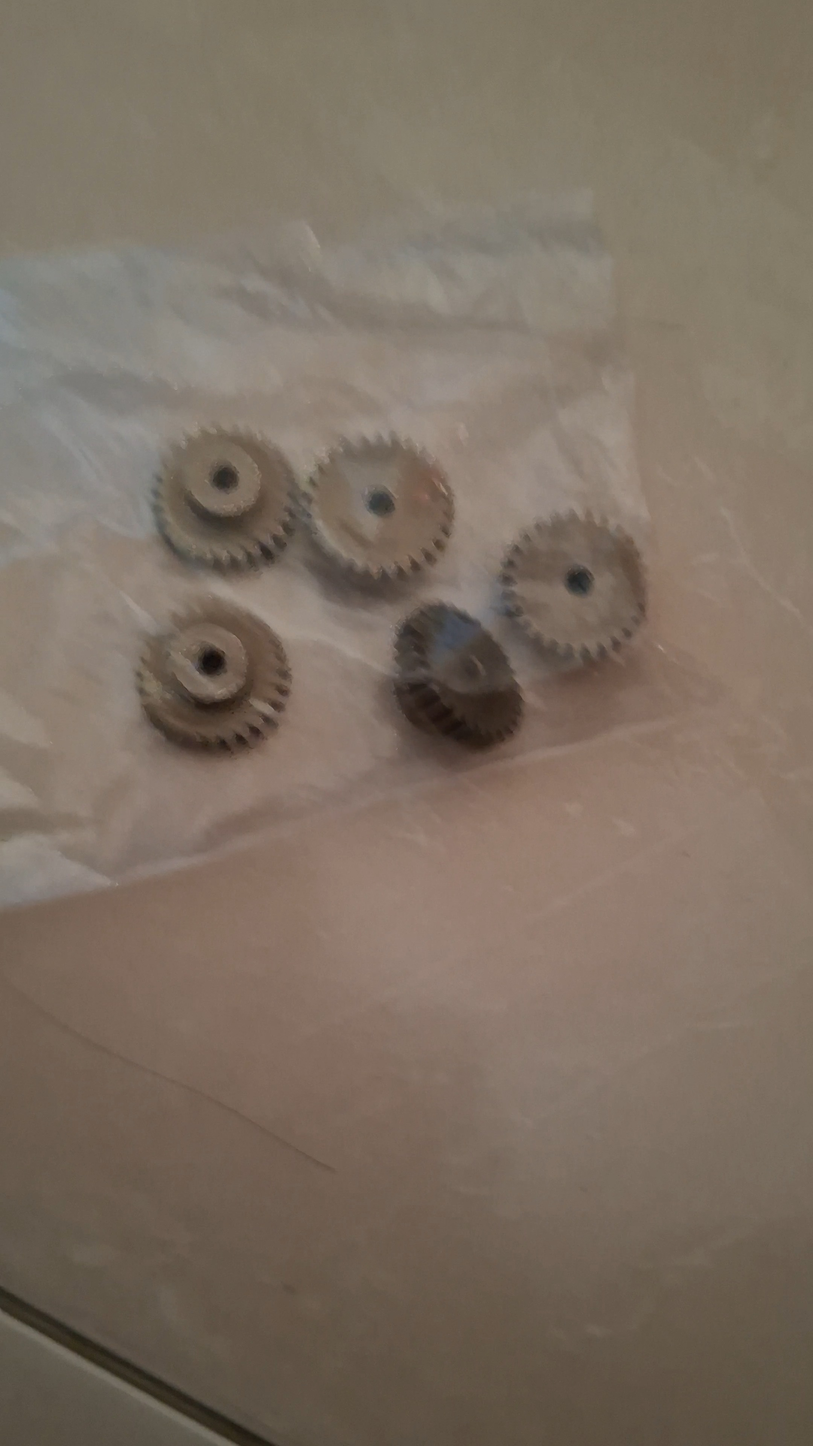spur gear: (138, 598, 290, 750), (303, 437, 453, 582), (501, 512, 646, 661), (154, 429, 295, 567), (394, 602, 522, 746)
